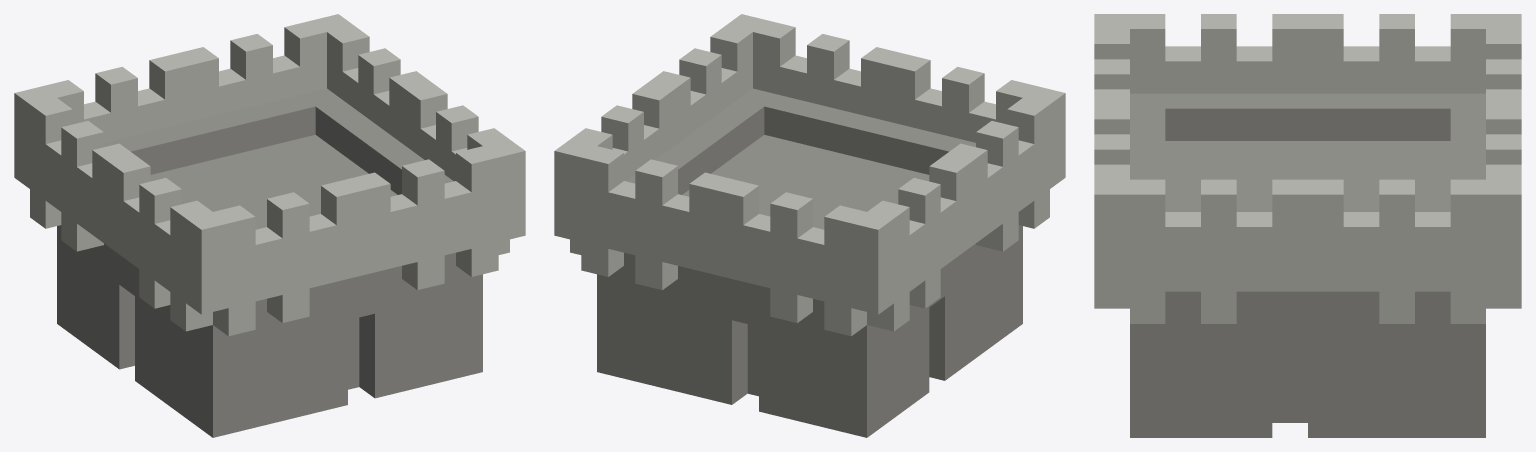
Rendered from 1x1x5_fulltop.fbx.
3 views of the same model, side by side, from view 1: azimuth 30°, elevation 25°; view 2: azimuth 150°, elevation 25°; view 3: azimuth 270°, elevation 25° (orthographic). The views are drawn at different scales.
Parts seen in each view (by area): view 1: Matrix; view 2: Matrix; view 3: Matrix.
Boxes of the visible parts, x1,y1,x2,y2 form: Matrix: (14, 14, 525, 437); Matrix: (554, 14, 1065, 437); Matrix: (1094, 14, 1521, 437).
Size of the model in its own units: 12 by 8 by 12.
1 material, 1 textured.
